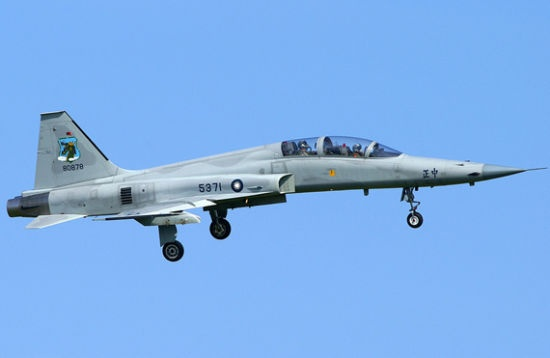airplane: (1, 109, 550, 266)
